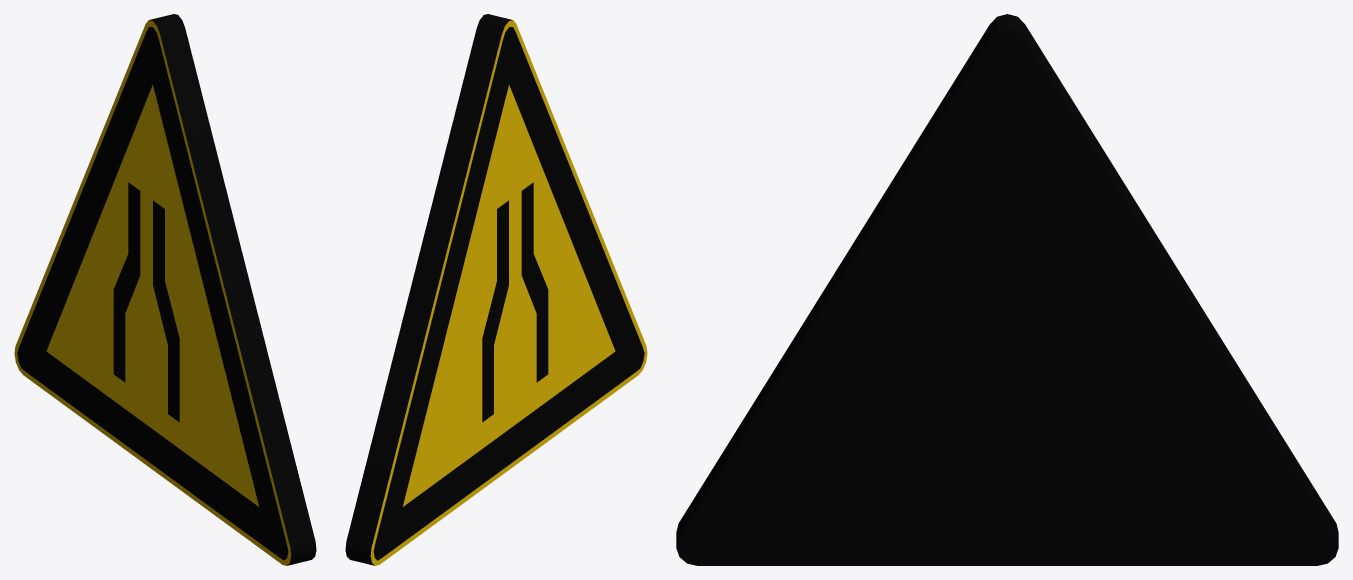
File: Narrow_Road_BothSide.fbx
The picture shows the model from 3 angles, left to right: view 1: azimuth 30°, elevation 25°; view 2: azimuth 150°, elevation 25°; view 3: azimuth 270°, elevation 25°; orthographic projection. The views are drawn at different scales.
Parts seen in each view (by area): view 1: Narrow_Road_BothSide; view 2: Narrow_Road_BothSide; view 3: Narrow_Road_BothSide.
Part boxes in pixels (x1,y1,x2,y2): Narrow_Road_BothSide: (14,14,316,565); Narrow_Road_BothSide: (345,14,647,565); Narrow_Road_BothSide: (676,14,1338,565).
Bounding box in the file's own units: 0.075 × 1.02 × 1.14.
